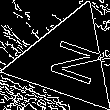N_W: (35, 33, 99, 88)
